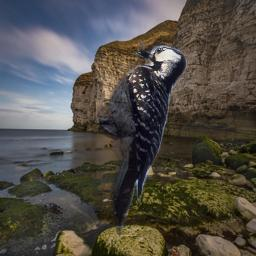Woodpecker: (94, 37, 187, 240)
